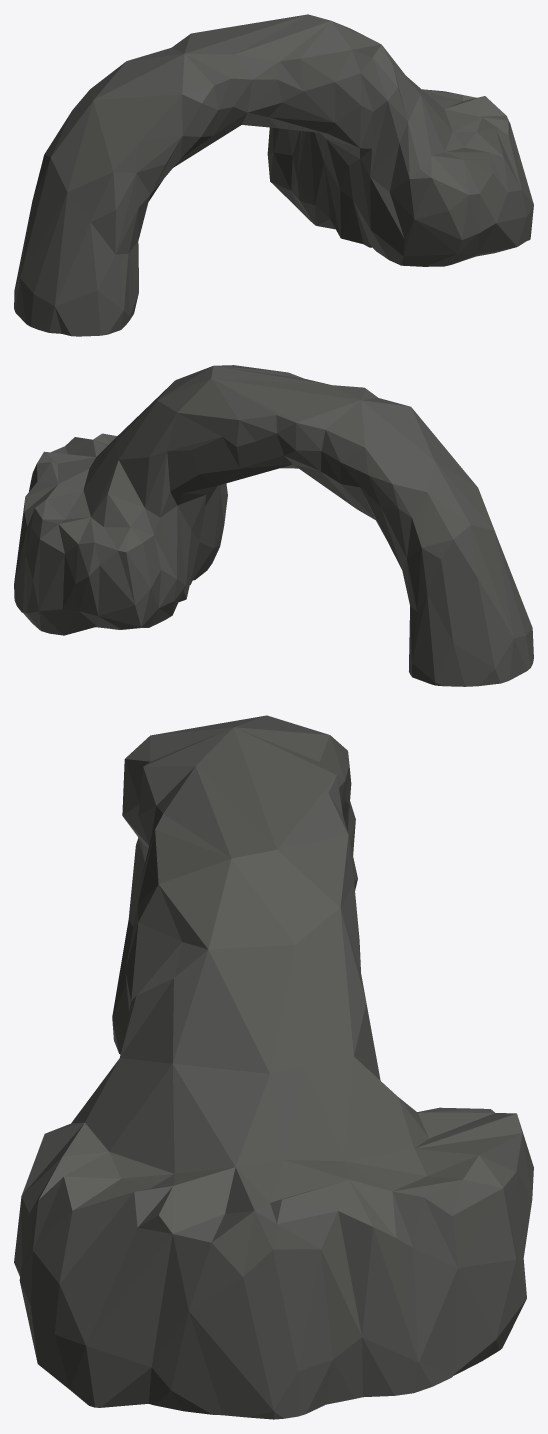
Rendered from SM_Envr_Nature_Rock_18.fbx.
3 views of the same model, one above another, from view 1: azimuth 30°, elevation 25°; view 2: azimuth 150°, elevation 25°; view 3: azimuth 270°, elevation 25° (orthographic). The views are drawn at different scales.
Parts seen in each view (by area): view 1: SM_Envr_Nature_Rock_18; view 2: SM_Envr_Nature_Rock_18; view 3: SM_Envr_Nature_Rock_18.
Part boxes in pixels (x1=…): SM_Envr_Nature_Rock_18: x1=14, y1=14, x2=533, y2=336; SM_Envr_Nature_Rock_18: x1=14, y1=365, x2=533, y2=686; SM_Envr_Nature_Rock_18: x1=14, y1=715, x2=533, y2=1419.
Size of the model in its own units: 796 by 364 by 416.
